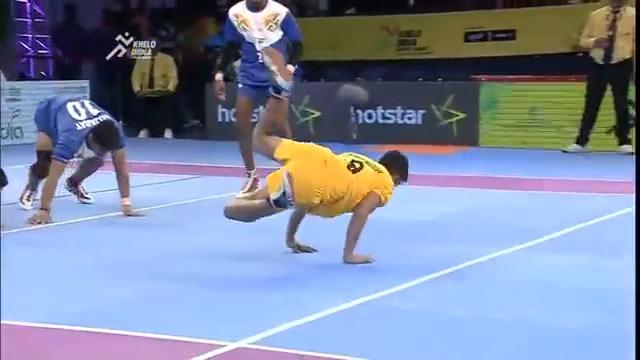Player: (212, 0, 303, 195), (18, 92, 145, 225)
Raider: (222, 100, 409, 264)
referee: (560, 0, 636, 153)
